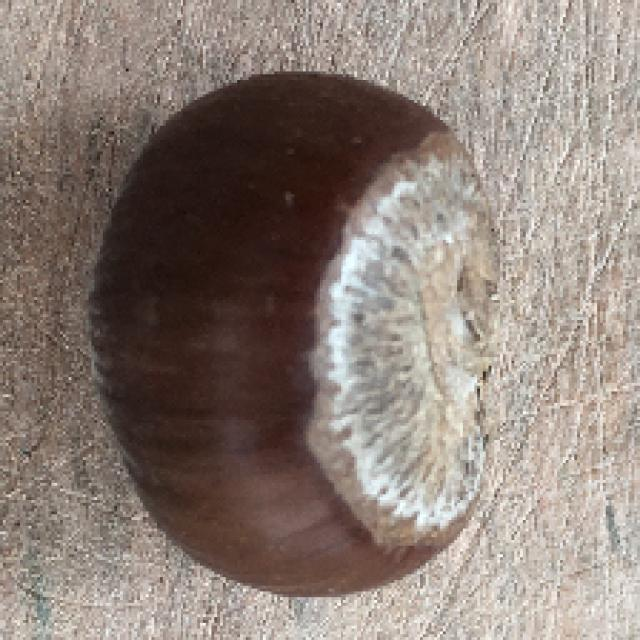damagedHazelnut: (89, 63, 508, 602)
